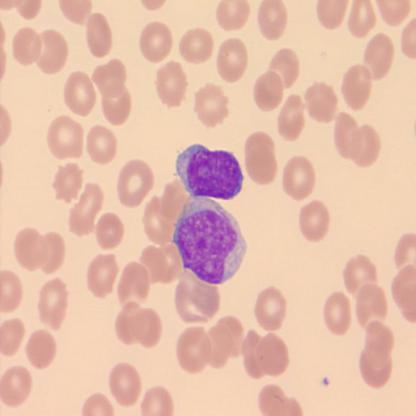Blast: (170, 192, 249, 286), (174, 141, 245, 203)
